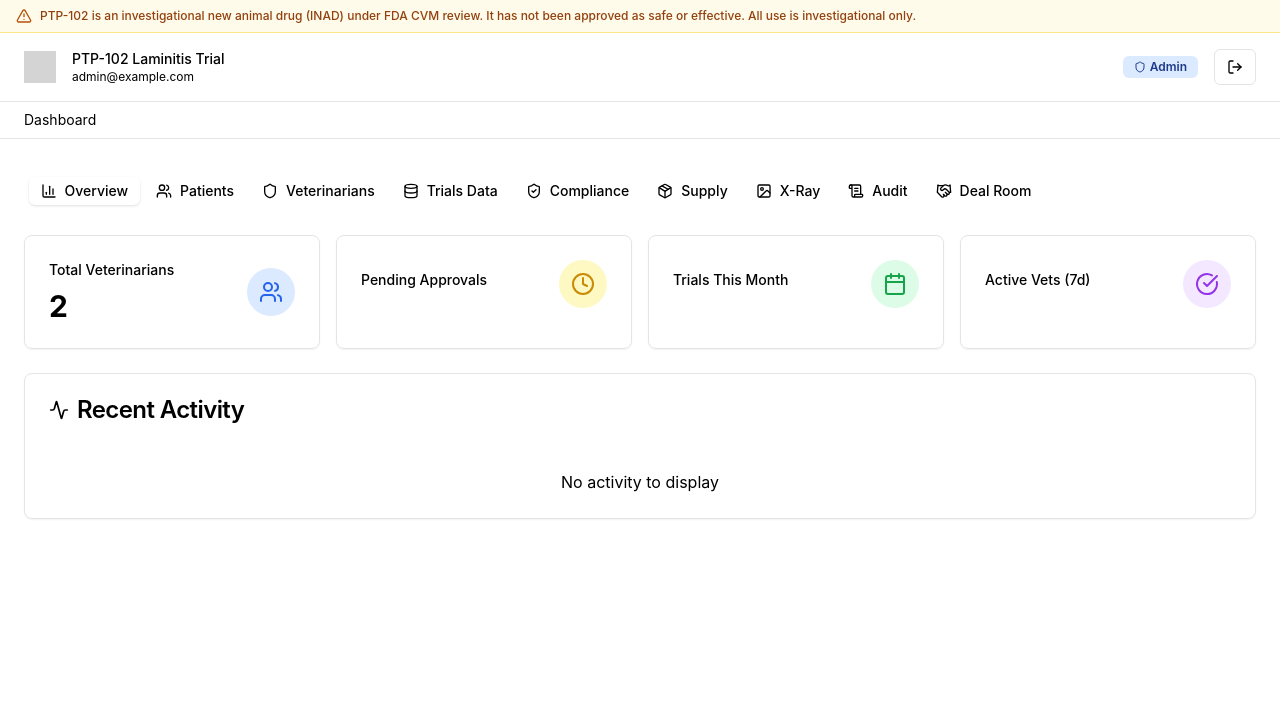
Test: Admin navigation and role preservation › does not crash when clicking the Supply tab and shows the supply panel
Expected: the text "Admin" is shown, [1123,56,1198,78]
Click the tab "Supply": x=692, y=191 [645,177,740,205]
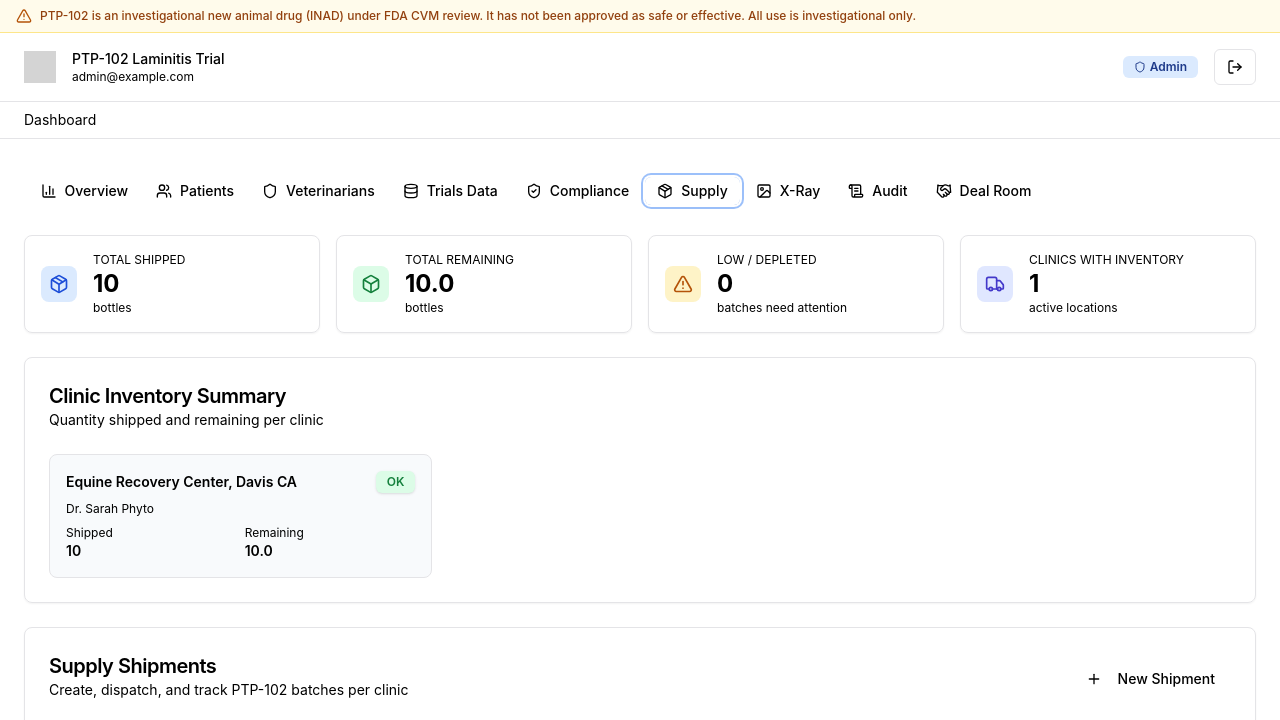
Now the heading "Clinic Inventory Summary" is shown, box [49,382,324,410]
Now the heading "Supply Shipments" is shown, box [49,654,216,678]
